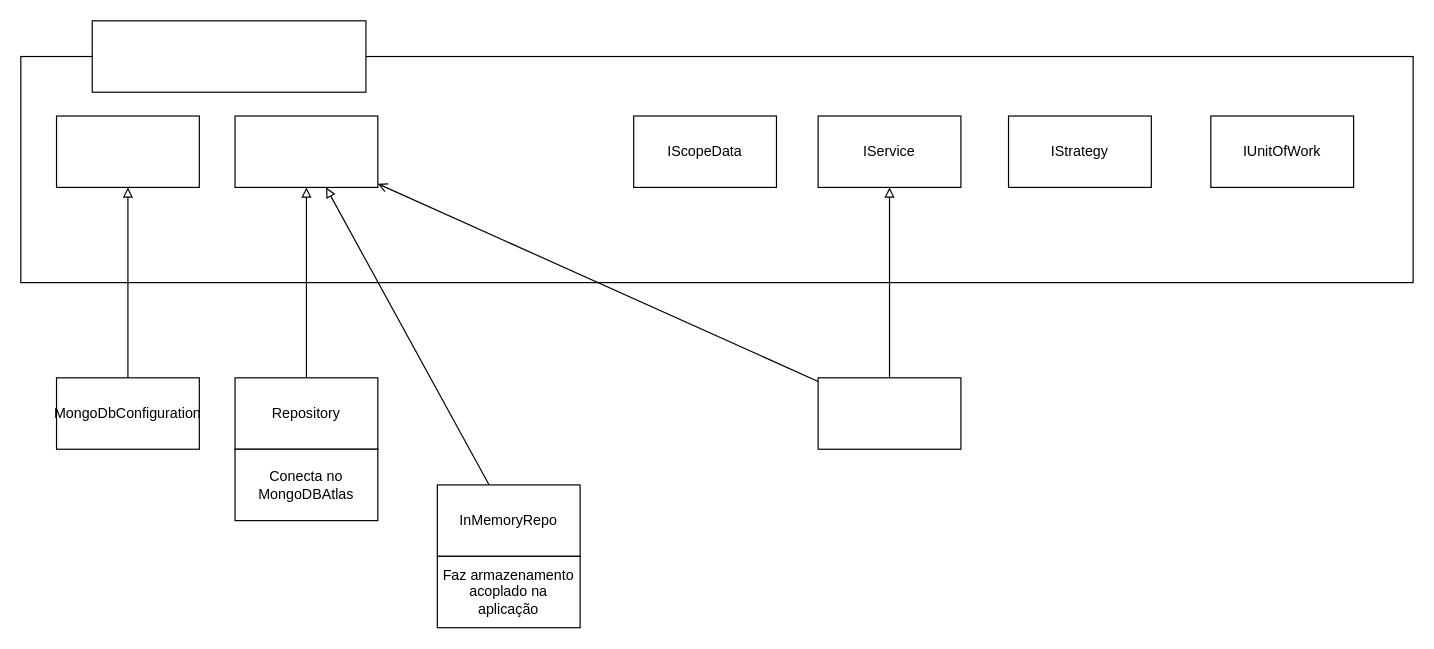
This 1434x649 diagram has some shape labels left out. The centre of each missing label's shape, as x and y in pixels:
"Dominio (de interfaces, de modelos)" goes at [228,56].
"IDatabaseConfiguration" goes at [127,151].
"IRepository" goes at [306,151].
"Service" goes at [889,413].
